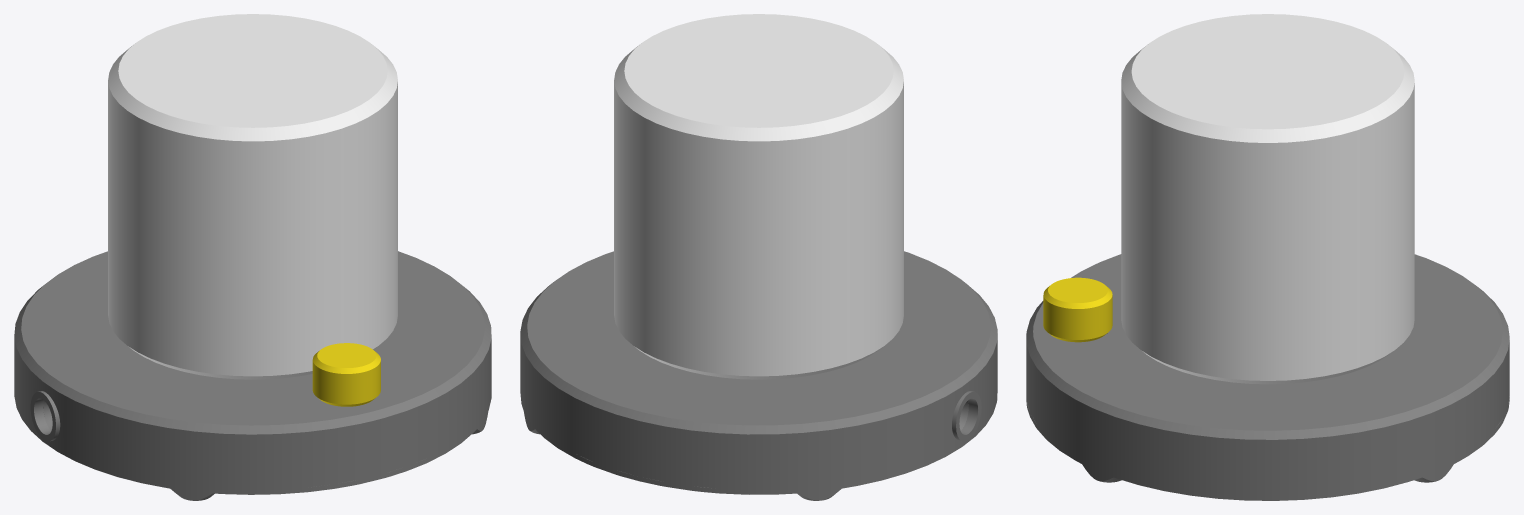
File: table-lamp.glb
The picture shows the model from 3 angles, left to right: view 1: azimuth 30°, elevation 25°; view 2: azimuth 150°, elevation 25°; view 3: azimuth 270°, elevation 25°; orthographic projection.
Parts seen in each view (by area): view 1: Paralume-1, Base_1-1, Manopola-1, Base cover-1; view 2: Paralume-1, Base_1-1, Base cover-1; view 3: Paralume-1, Base_1-1, Manopola-1, Base cover-1.
Part boxes in pixels (<box>): Paralume-1: <box>108,14,397,379</box>; Base_1-1: <box>14,251,491,490</box>; Manopola-1: <box>312,343,380,406</box>; Base cover-1: <box>14,392,491,500</box>; Paralume-1: <box>614,14,903,379</box>; Base_1-1: <box>520,251,997,489</box>; Base cover-1: <box>520,389,997,500</box>; Paralume-1: <box>1121,14,1414,384</box>; Base_1-1: <box>1026,254,1509,496</box>; Manopola-1: <box>1043,277,1112,342</box>; Base cover-1: <box>1026,396,1509,500</box>.
Bounding box in the file's own units: 0.141 × 0.1075 × 0.14.
